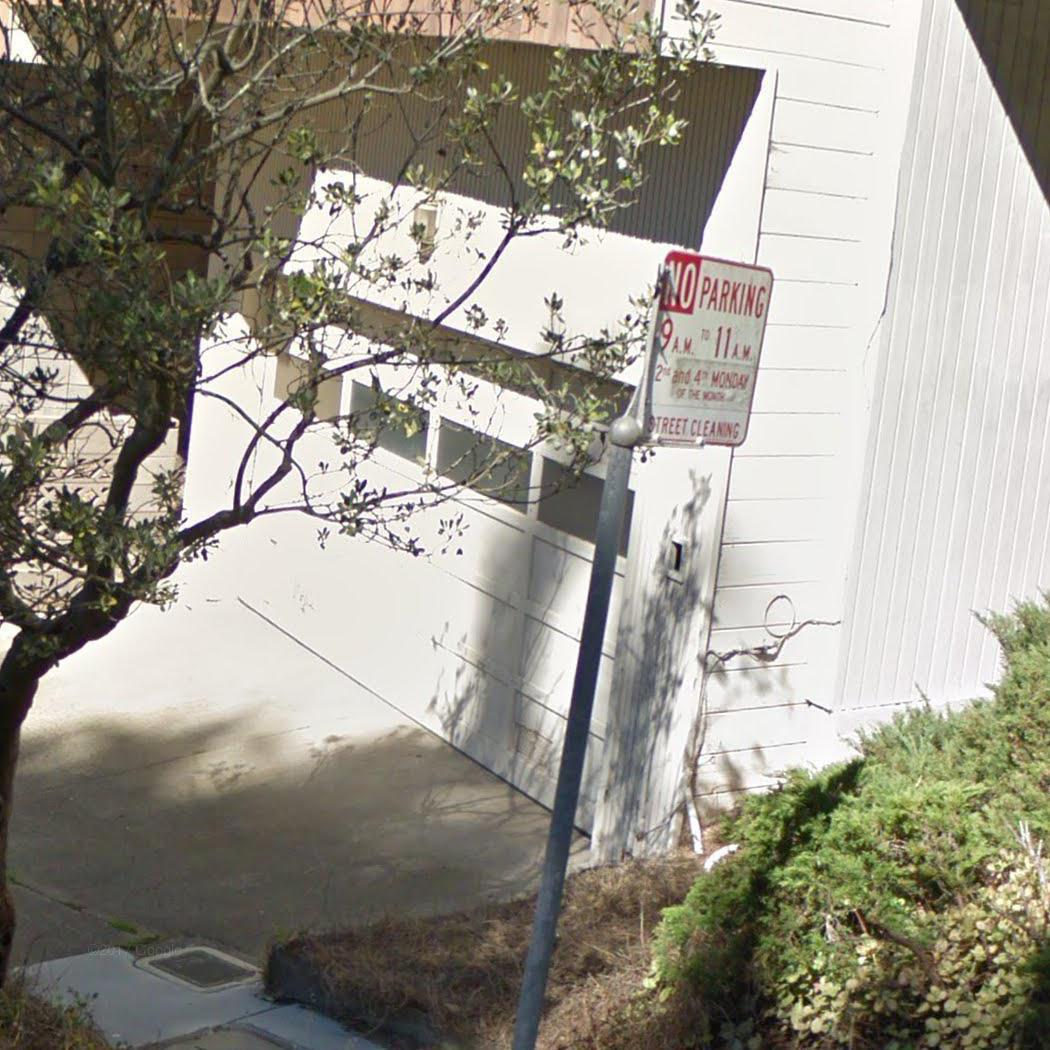No Parking: (635, 248, 777, 452)
